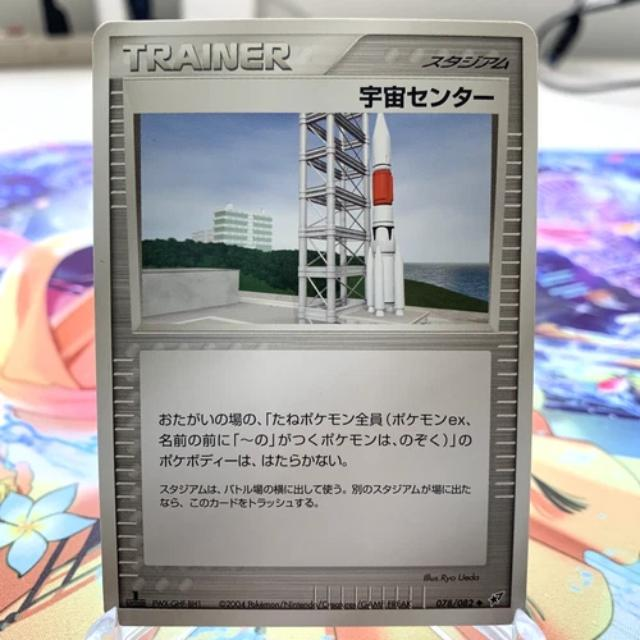Card: (86, 13, 541, 633)
Name: (343, 76, 503, 113)
